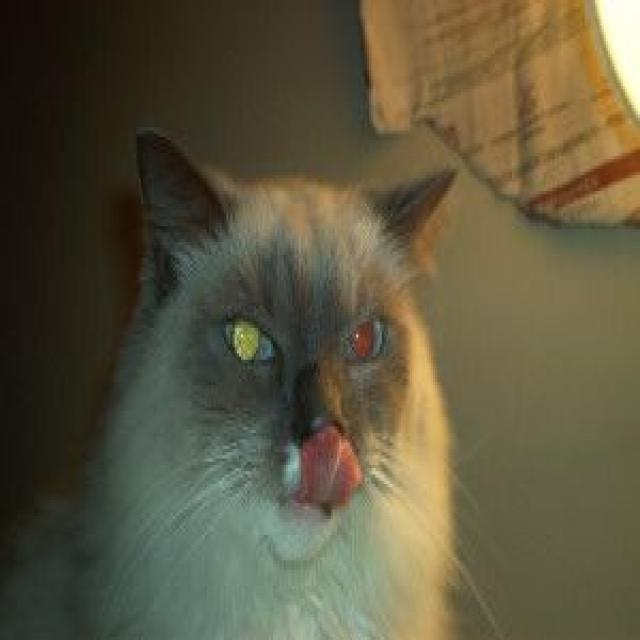Cat: (0, 124, 499, 637)
